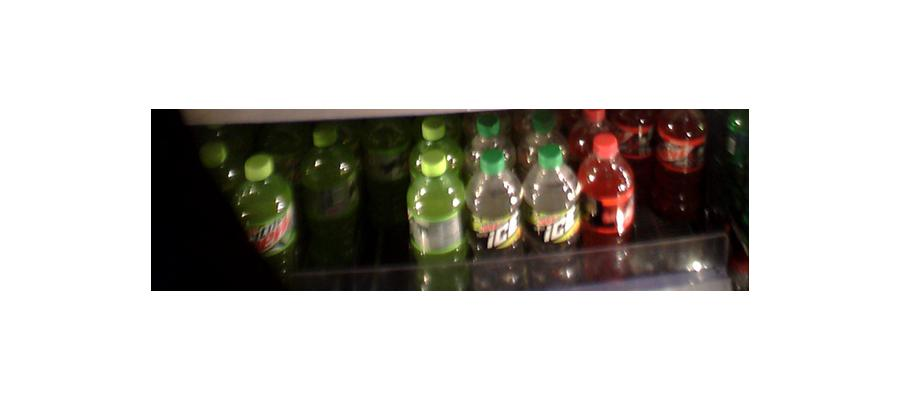bottle: (409, 122, 467, 296), (296, 121, 357, 269), (468, 125, 522, 290), (525, 137, 579, 282), (579, 135, 634, 270), (235, 154, 293, 275), (656, 107, 706, 223)
